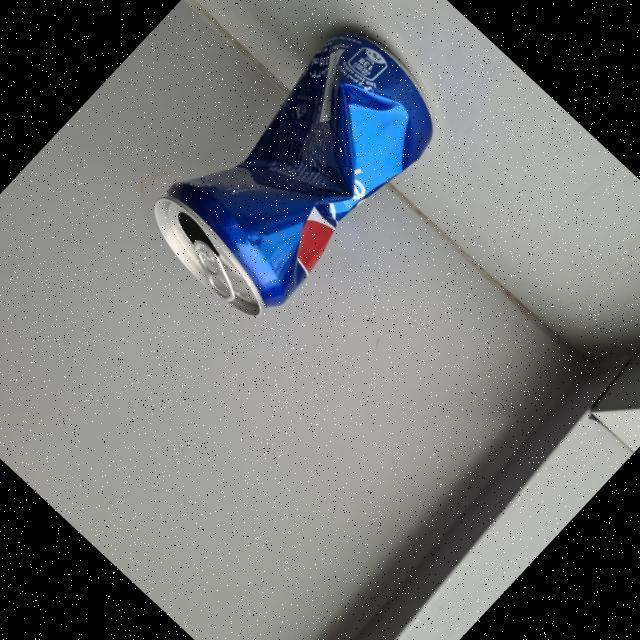metal-can: (152, 25, 442, 322)
